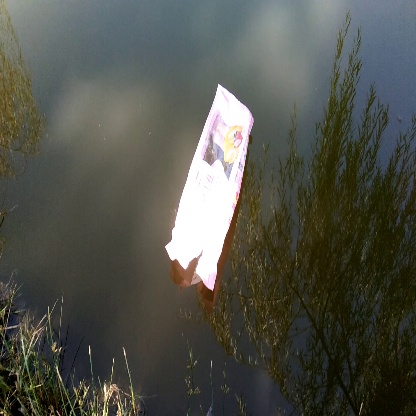plastic-bag: (162, 83, 255, 297)
